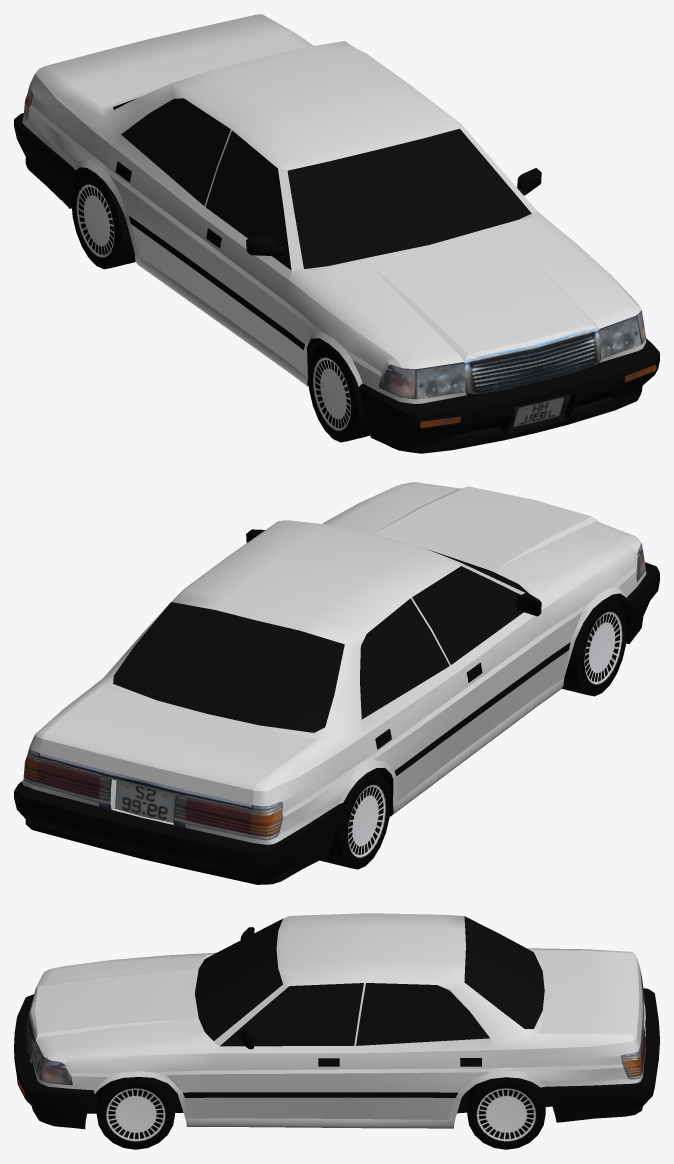
The model's file is car.dae.
The picture shows the model from 3 angles, top to bottom: view 1: azimuth 30°, elevation 25°; view 2: azimuth 150°, elevation 25°; view 3: azimuth 270°, elevation 25°; orthographic projection. The views are drawn at different scales.
Visible parts, largest first — view 1: Body, Glass, Plastic, Crown, WL002, WL003; view 2: Body, Glass, Plastic, Crown, WL003, WL002; view 3: Body, Glass, Plastic, WL, WL001, Crown.
Part boxes in pixels (x1,y1,x2,y2): Body: (22, 14, 646, 403); Glass: (113, 98, 531, 270); Plastic: (14, 113, 659, 453); Crown: (23, 86, 656, 431); WL002: (71, 170, 135, 269); WL003: (308, 343, 370, 442); Body: (22, 482, 646, 844); Glass: (113, 549, 529, 732); Plastic: (14, 529, 659, 884); Crown: (23, 543, 645, 840); WL003: (561, 597, 627, 696); WL002: (320, 771, 390, 869); Body: (31, 913, 645, 1128); Glass: (195, 916, 544, 1046); Plastic: (14, 927, 659, 1129); WL: (96, 1077, 174, 1149); WL001: (467, 1077, 545, 1149); Crown: (18, 968, 646, 1096).
Size of the model in its own units: 215 by 139 by 526.
Materials: 4 (1 with a texture image).
